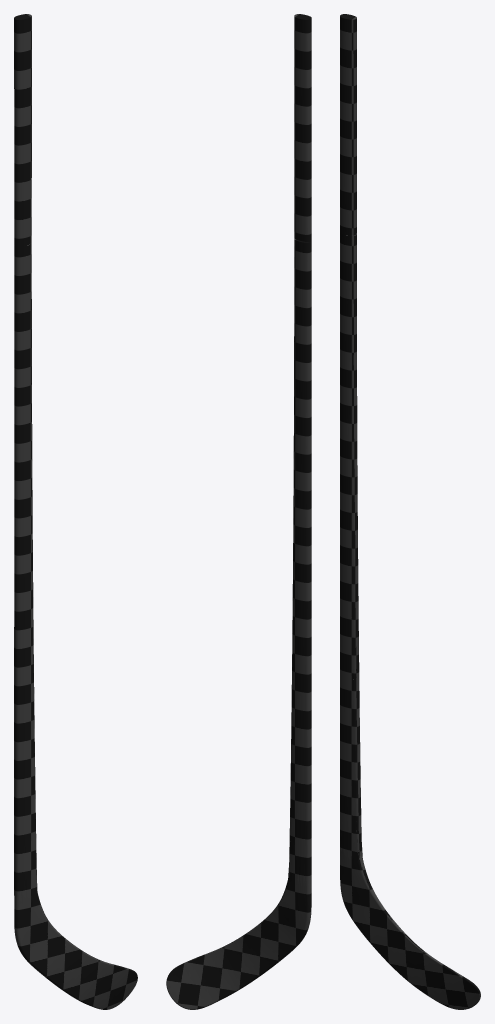
Rendered from P92-SBO-JR.glb.
3 views of the same model, side by side, from view 1: azimuth 30°, elevation 25°; view 2: azimuth 150°, elevation 25°; view 3: azimuth 330°, elevation 25° (orthographic). The views are drawn at different scales.
Parts seen in each view (by area): view 1: geometry_0; view 2: geometry_0; view 3: geometry_0.
Part boxes in pixels (left/top/right/bottom): geometry_0: left=14, top=14, right=137, bottom=1009; geometry_0: left=166, top=14, right=311, bottom=1009; geometry_0: left=340, top=14, right=480, bottom=1009.
Bounding box in the file's own units: 227 × 1650 × 50.87.
1 material, 1 textured.
